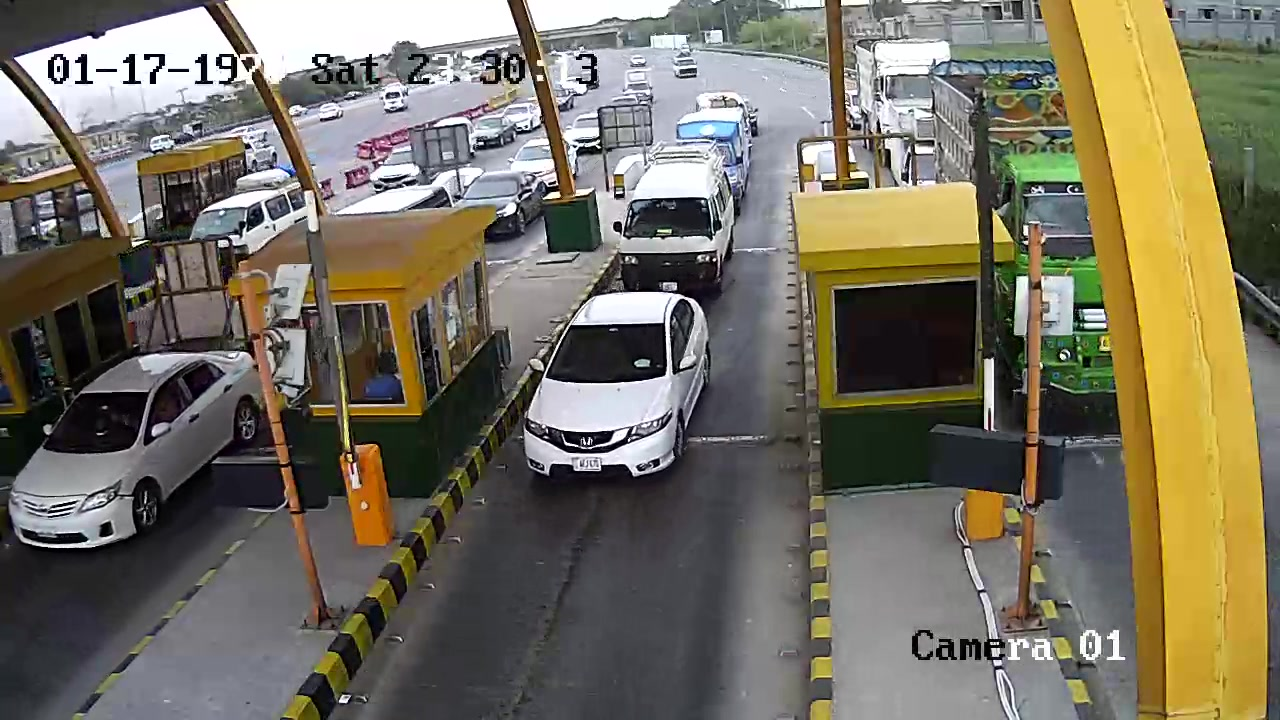F1: (527, 287, 715, 492)
